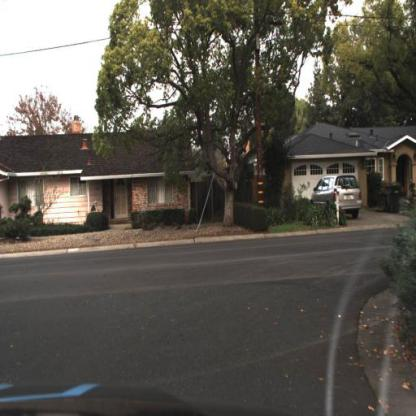car: (310, 172, 364, 218)
